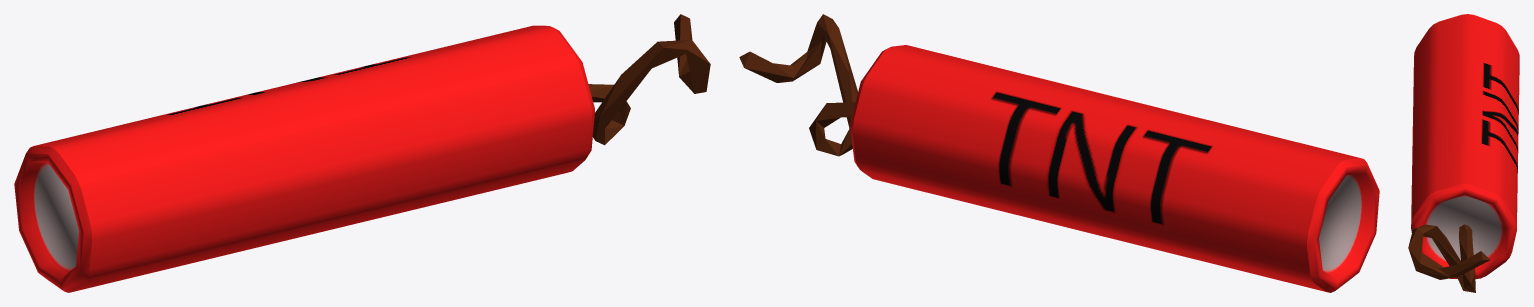
Rendered from TNT.fbx.
3 renders of one model, left to right at view 1: azimuth 30°, elevation 25°; view 2: azimuth 150°, elevation 25°; view 3: azimuth 270°, elevation 25°, orthographic. The views are drawn at different scales.
Parts seen in each view (by area): view 1: TNT, fetil; view 2: TNT, fetil; view 3: TNT, fetil.
Part boxes in pixels (x1,y1,x2,y2): TNT: (14,25,594,292); fetil: (588,14,710,145); TNT: (850,45,1379,292); fetil: (739,14,857,156); TNT: (1411,14,1519,279); fetil: (1408,224,1489,292).
Size of what is drawn, in the model's own units: 2.34 by 0.4681 by 0.4933.
